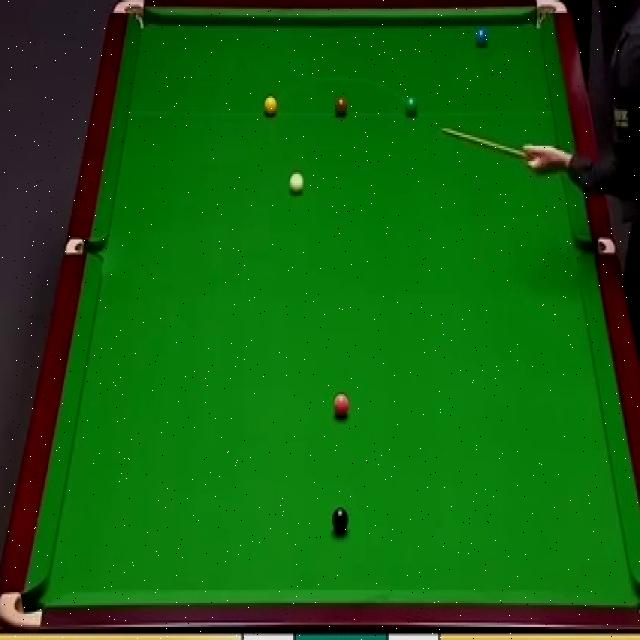black-ball: (332, 506, 349, 534)
blue-ball: (474, 27, 490, 48)
brown-ball: (334, 98, 348, 116)
green-ball: (404, 94, 419, 119)
pink-ball: (332, 391, 350, 422)
white-ball: (288, 170, 304, 198)
yellow-ball: (263, 95, 278, 117)
